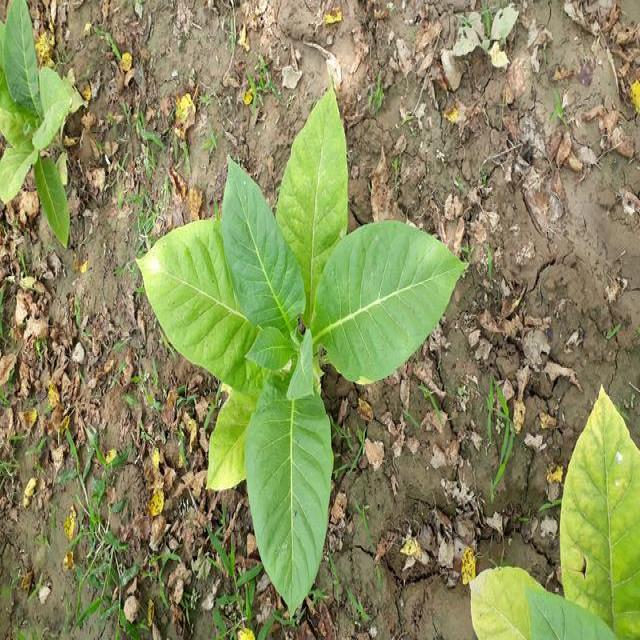crop: (134, 100, 454, 589), (476, 385, 639, 640), (0, 0, 80, 253)
